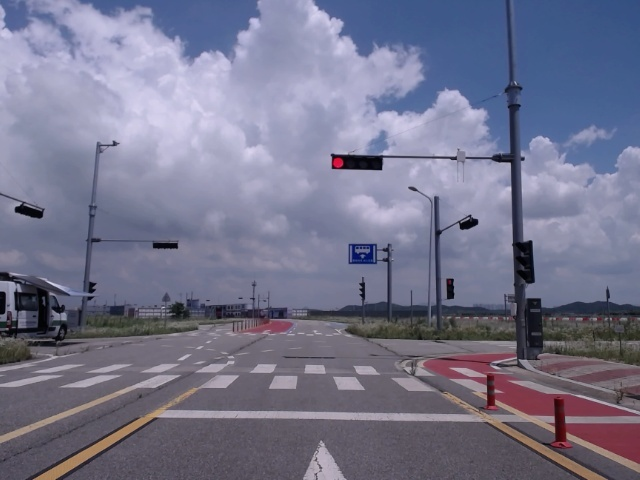red_4: (332, 156, 383, 170)
